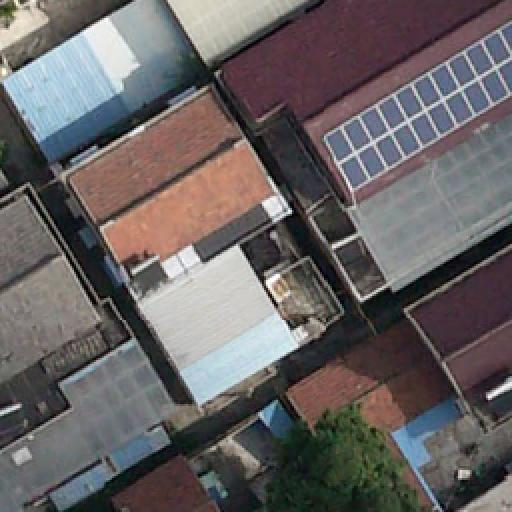solar-panel: (321, 19, 511, 189)
